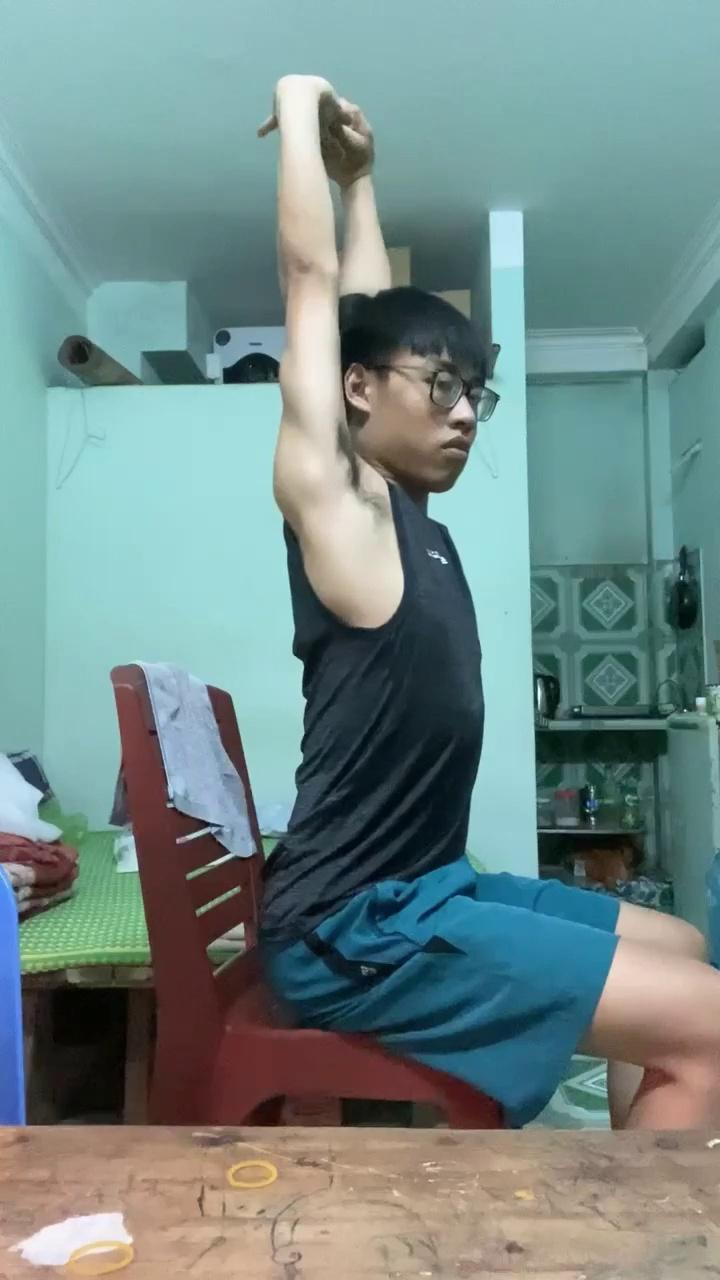GoodPosture: (258, 76, 719, 1129)
